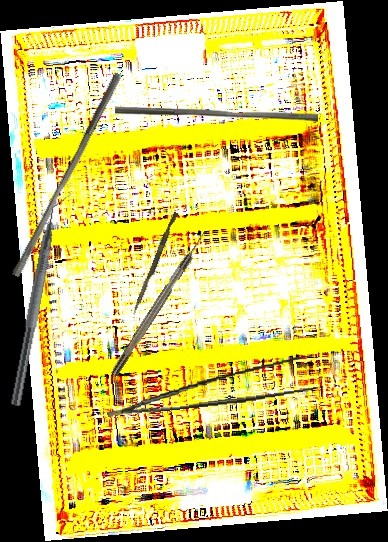Chopper: (10, 187, 74, 410)
Hook Surgical: (109, 229, 210, 377)
Pusher: (10, 68, 123, 281), (132, 210, 178, 317), (115, 106, 318, 122)
Tissue Forceps: (103, 354, 321, 418)
